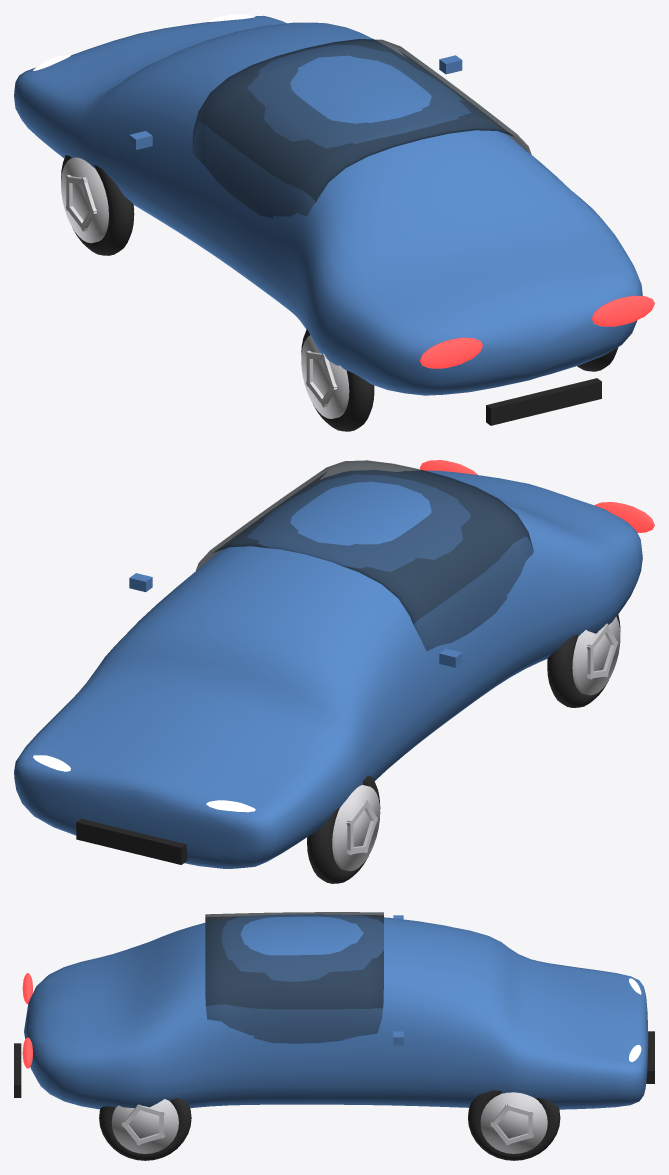
File: subaru_impreza_22b_sti-version_1998.glb
3 renders of one model, top to bottom at view 1: azimuth 30°, elevation 25°; view 2: azimuth 150°, elevation 25°; view 3: azimuth 270°, elevation 25°, orthographic. The views are drawn at different scales.
Visible parts, largest first — view 1: Body, Glass, Diffuser, Rim_FR, Tyre_FR, Rim_RR, Tyre_RR, Taillight_L, Taillight_R; view 2: Body, Glass, FrontIntake, Rim_FR, Rim_RR, Tyre_FR, Tyre_RR, Taillight_R; view 3: Body, Glass, Rim_FL, Rim_RL, Tyre_FL, Tyre_RL, Diffuser, FrontIntake.
Boxes of the visible parts, x1,y1,x2,y2 form: Body: (14,15,642,395); Glass: (192,39,531,218); Diffuser: (486,378,601,425); Rim_FR: (61,157,134,243); Tyre_FR: (61,155,134,255); Rim_RR: (301,335,349,418); Tyre_RR: (301,329,374,431); Taillight_L: (591,295,654,326); Taillight_R: (420,337,482,368); Body: (14,470,642,868); Glass: (196,460,533,650); FrontIntake: (76,818,187,864); Rim_FR: (307,785,380,871); Rim_RR: (547,616,620,695); Tyre_FR: (307,775,380,883); Tyre_RR: (547,614,620,707); Taillight_R: (594,502,654,532); Body: (24,914,648,1109); Glass: (205,912,383,1043); Rim_FL: (480,1092,547,1153); Rim_RL: (111,1099,178,1153); Tyre_FL: (468,1090,560,1160); Tyre_RL: (99,1098,191,1160); Diffuser: (14,1043,21,1097); FrontIntake: (646,1031,654,1083).
Bounding box in the file's own units: 1.98 × 1.38 × 4.38.
